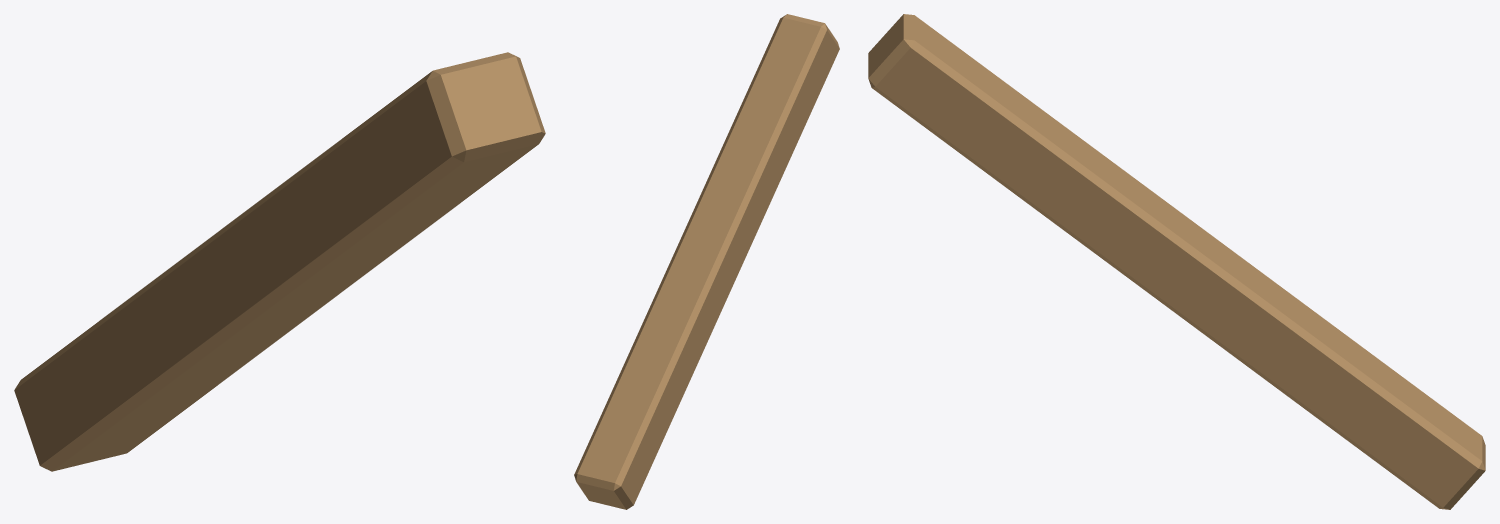
The model's file is Balk2.fbx.
3 renders of one model, left to right at view 1: azimuth 30°, elevation 25°; view 2: azimuth 150°, elevation 25°; view 3: azimuth 270°, elevation 25°, orthographic. The views are drawn at different scales.
Visible parts, largest first — view 1: WallWoodV.143; view 2: WallWoodV.143; view 3: WallWoodV.143.
Part boxes in pixels (x1,y1,x2,y2): WallWoodV.143: (14,52,545,471); WallWoodV.143: (574,14,839,509); WallWoodV.143: (868,14,1485,509).
Size of the model in its own units: 0.1149 by 0.799 by 0.9499.
